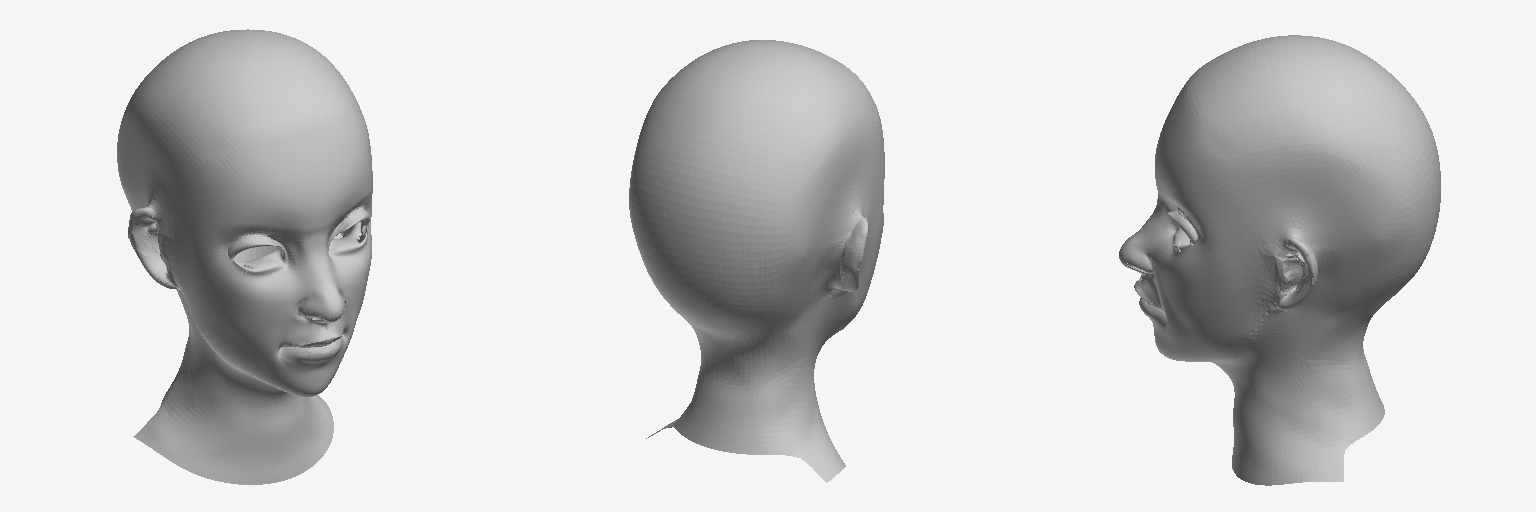
The model's file is Head_Base.OBJ.
3 renders of one model, left to right at view 1: azimuth 30°, elevation 25°; view 2: azimuth 150°, elevation 25°; view 3: azimuth 270°, elevation 25°, orthographic.
Parts seen in each view (by area): view 1: Body_Base1; view 2: Body_Base1; view 3: Body_Base1.
Boxes of the visible parts, x1,y1,x2,y2 form: Body_Base1: [117, 29, 372, 484]; Body_Base1: [629, 40, 884, 482]; Body_Base1: [1119, 35, 1440, 485].
Size of the model in its own units: 1.79 by 3.17 by 2.23.